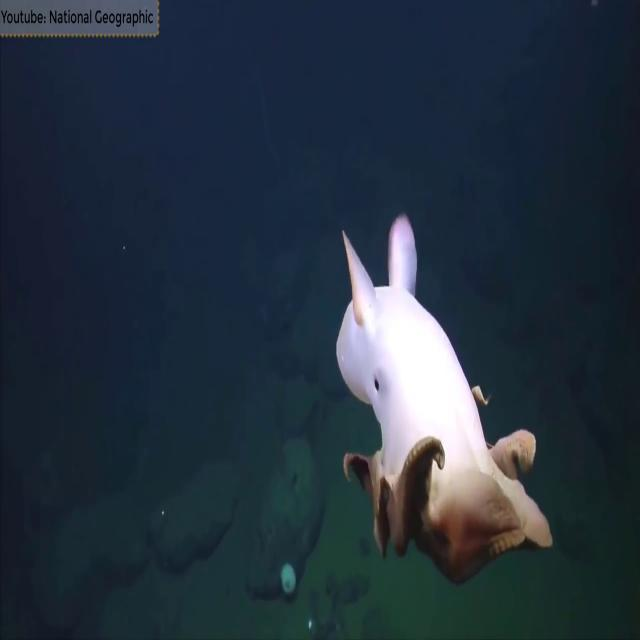octopus: (330, 213, 556, 582)
